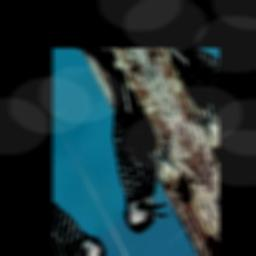Woodpecker: (63, 58, 200, 248)
